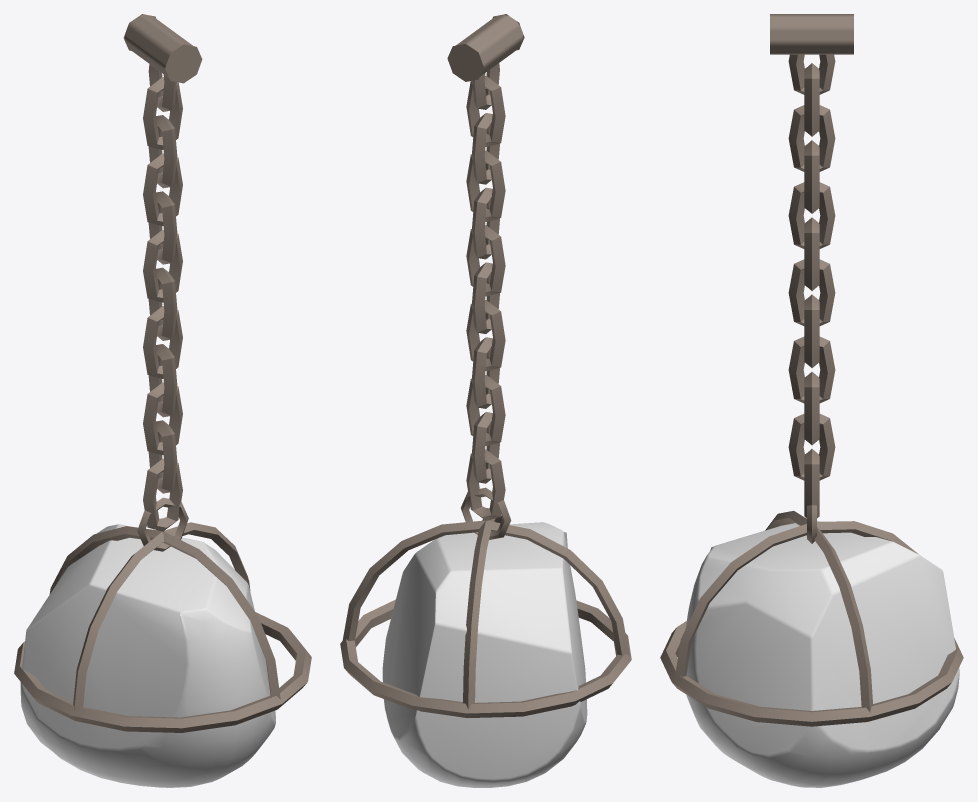
The model's file is mover_pendulum.glb.
3 renders of one model, left to right at view 1: azimuth 30°, elevation 25°; view 2: azimuth 150°, elevation 25°; view 3: azimuth 270°, elevation 25°, orthographic. The views are drawn at different scales.
Parts seen in each view (by area): view 1: mover_pendulum; view 2: mover_pendulum; view 3: mover_pendulum.
Boxes of the visible parts, bbox=[...] form: mover_pendulum: bbox=[14, 14, 311, 787]; mover_pendulum: bbox=[340, 14, 631, 787]; mover_pendulum: bbox=[660, 14, 963, 787].
Bounding box in the file's own units: 3.62 × 9.96 × 3.62.
